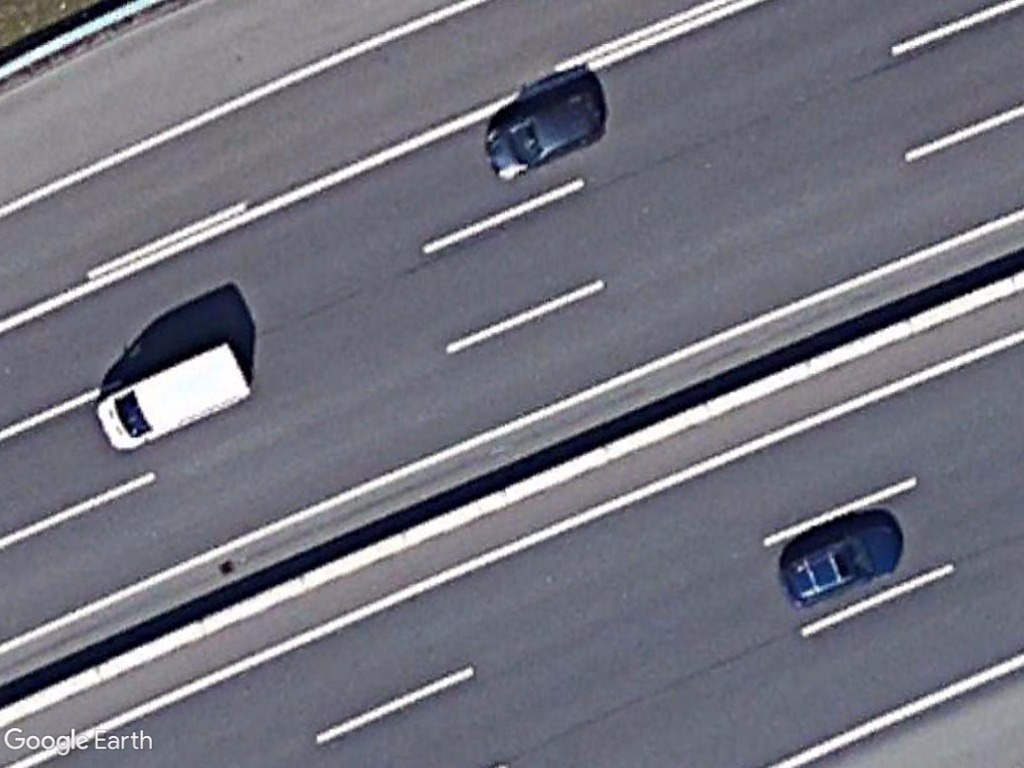car: (483, 87, 608, 183), (773, 521, 906, 610)
van: (95, 338, 255, 455)
